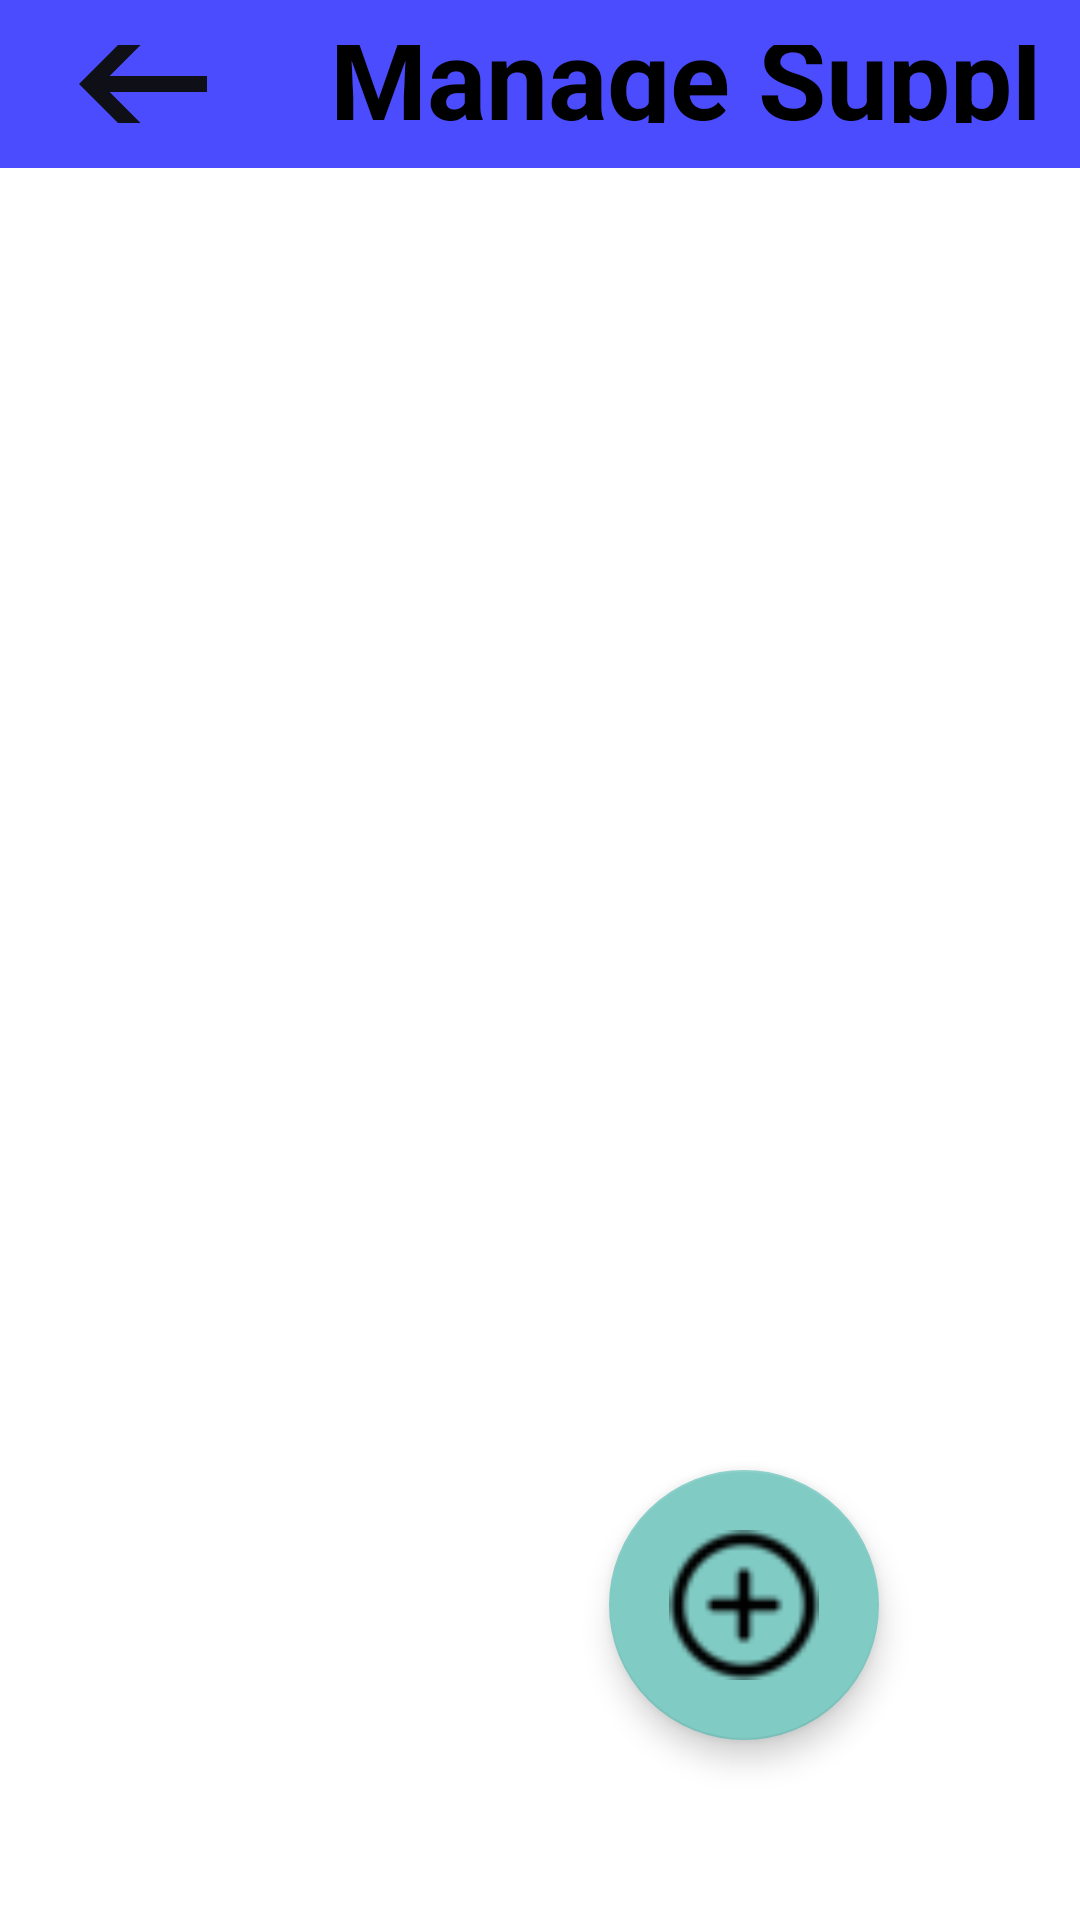

Screen size 1080w x 1920h. Icon name, then its box in pixels as (x1,y1,x2,y2):
add product: (609,1470,879,1740)
